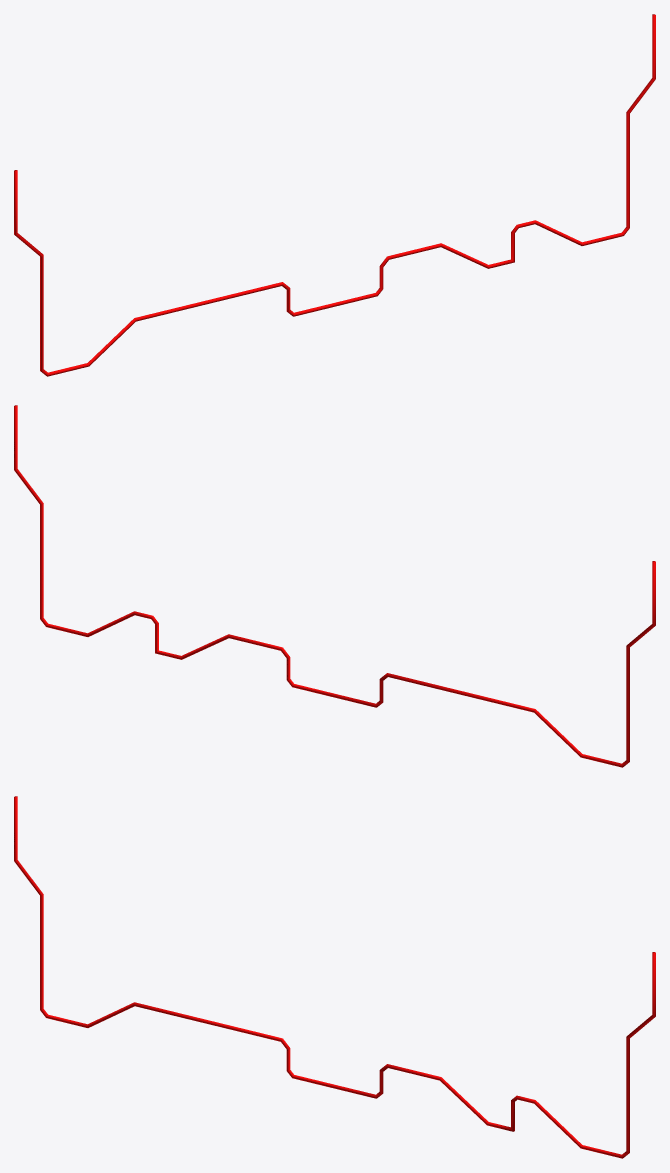
The model's file is original-83.obj.
3 views of the same model, one above another, from view 1: azimuth 30°, elevation 25°; view 2: azimuth 150°, elevation 25°; view 3: azimuth 330°, elevation 25° (orthographic).
Parts seen in each view (by area): view 1: Component_39_4/Component_39/mesh20/mesh20-geometry#mesh20-geomet; view 2: Component_39_4/Component_39/mesh20/mesh20-geometry#mesh20-geomet; view 3: Component_39_4/Component_39/mesh20/mesh20-geometry#mesh20-geomet.
Boxes of the visible parts, x1,y1,x2,y2 form: Component_39_4/Component_39/mesh20/mesh20-geometry#mesh20-geomet: [14, 14, 655, 376]; Component_39_4/Component_39/mesh20/mesh20-geometry#mesh20-geomet: [14, 405, 655, 767]; Component_39_4/Component_39/mesh20/mesh20-geometry#mesh20-geomet: [14, 796, 655, 1158].
Bounding box in the file's own units: 0.8054 × 0.2561 × 0.00423.
